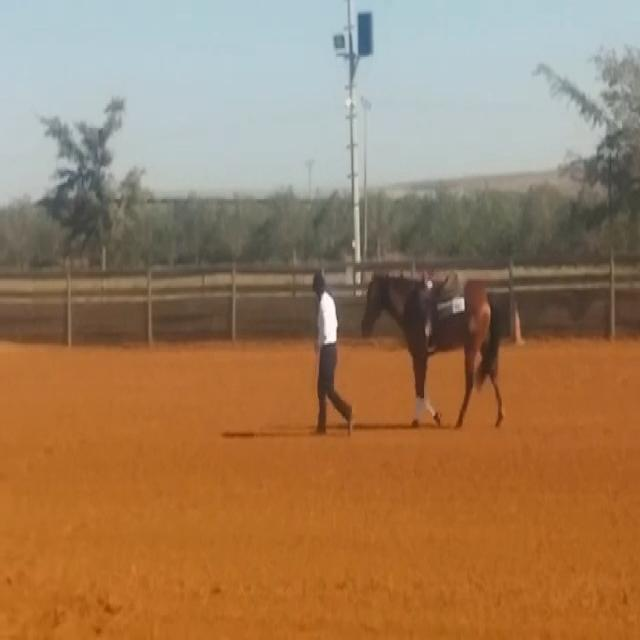horse: (359, 265, 515, 430)
